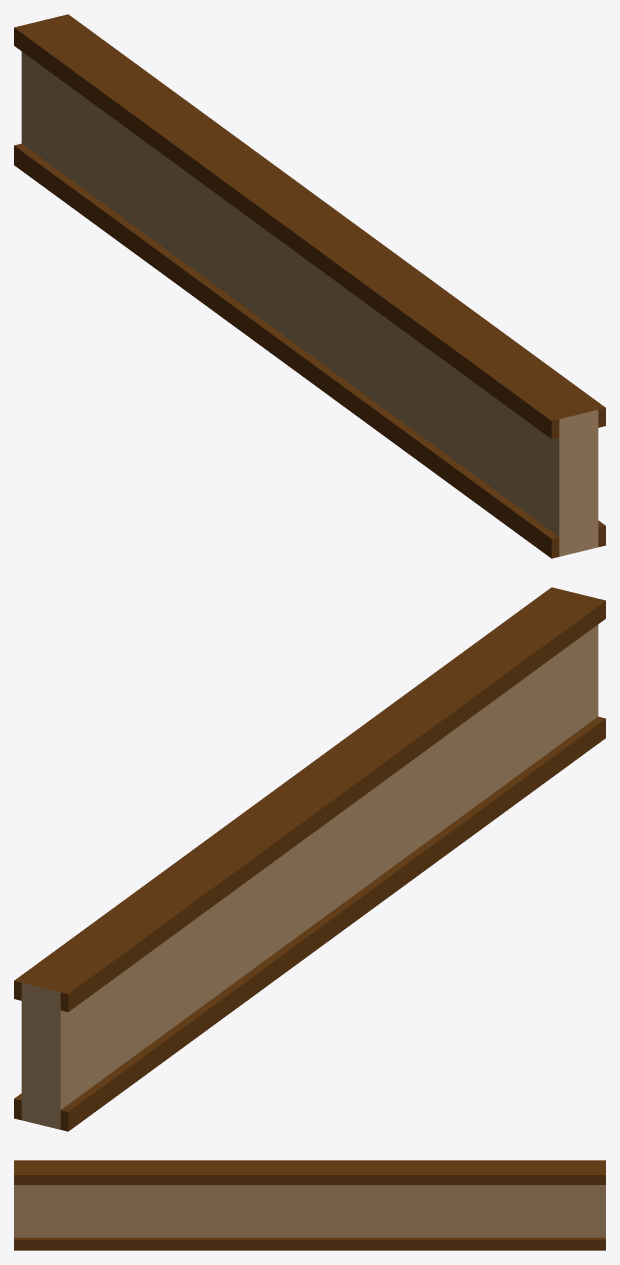
File: diner_midwall.glb
The picture shows the model from 3 angles, top to bottom: view 1: azimuth 30°, elevation 25°; view 2: azimuth 150°, elevation 25°; view 3: azimuth 270°, elevation 25°; orthographic projection. The views are drawn at different scales.
Visible parts, largest first — view 1: Cube; view 2: Cube; view 3: Cube.
Boxes of the visible parts, left/top/right/bottom form: Cube: left=14, top=14, right=605, bottom=558; Cube: left=14, top=587, right=605, bottom=1131; Cube: left=14, top=1160, right=605, bottom=1250.
Size of the model in its own units: 0.7 by 1.7 by 12.
